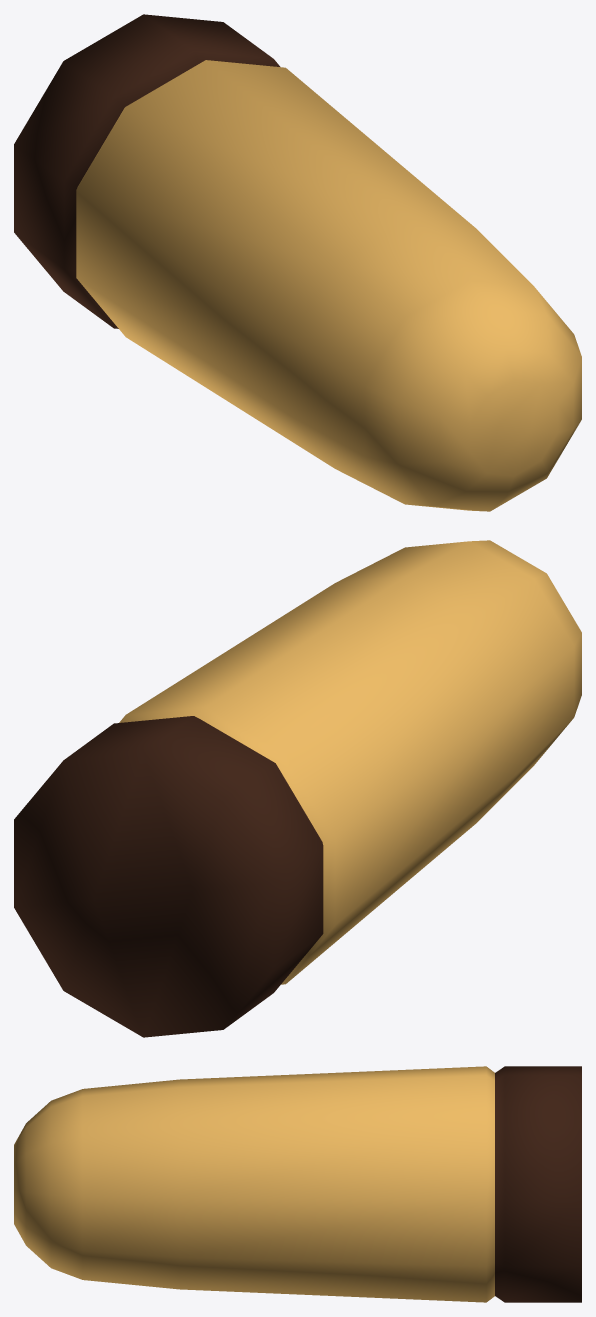
File: CS_TypeL.fbx
3 views of the same model, one above another, from view 1: azimuth 30°, elevation 25°; view 2: azimuth 150°, elevation 25°; view 3: azimuth 270°, elevation 25° (orthographic). The views are drawn at different scales.
Parts seen in each view (by area): view 1: CS_TypeL; view 2: CS_TypeL; view 3: CS_TypeL.
Part boxes in pixels (x1,y1,x2,y2): CS_TypeL: [14, 14, 581, 511]; CS_TypeL: [14, 540, 581, 1037]; CS_TypeL: [14, 1066, 581, 1302].
Size of the model in its own units: 2.03 by 2.13 by 5.03.
